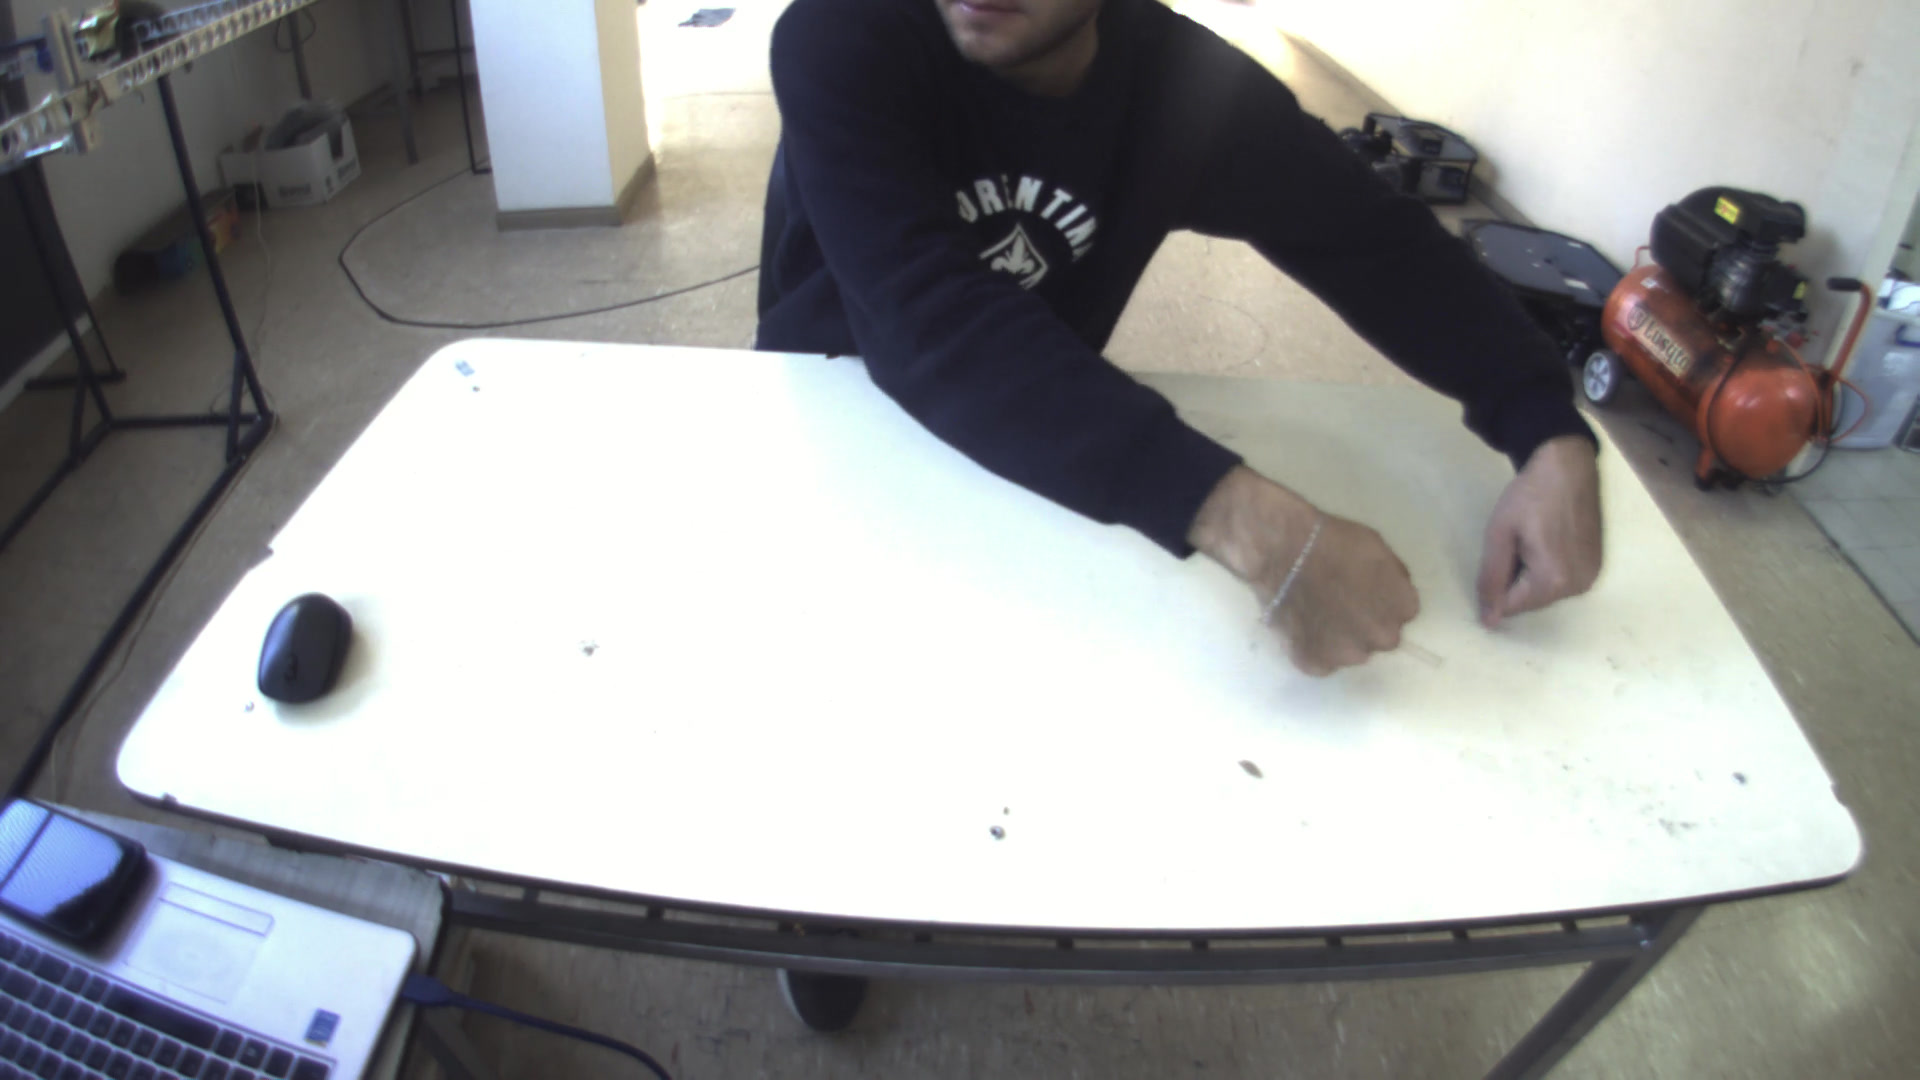hand: (1234, 483, 1428, 684), (1466, 425, 1611, 629)
